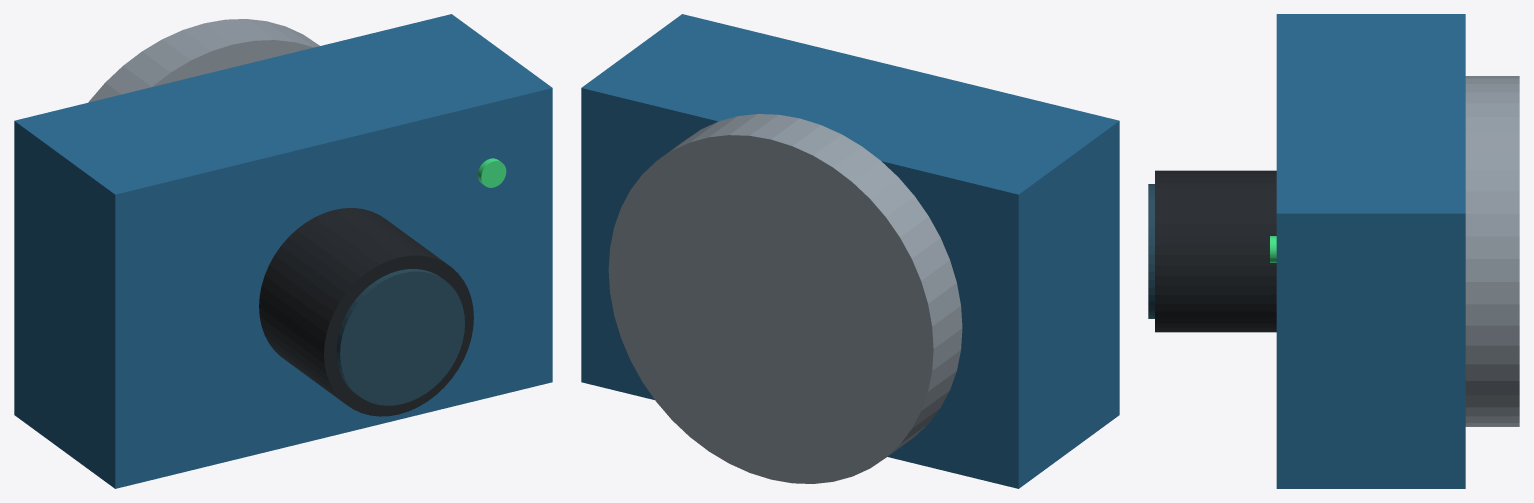
File: left_flange_camera.glb
The picture shows the model from 3 angles, left to right: view 1: azimuth 30°, elevation 25°; view 2: azimuth 150°, elevation 25°; view 3: azimuth 270°, elevation 25°; orthographic projection. The views are drawn at different scales.
Visible parts, largest first — view 1: left_camera_housing, left_camera_lens_barrel, left_camera_front_glass, left_camera_mount_plate, left_camera_status_led; view 2: left_camera_housing, left_camera_mount_plate; view 3: left_camera_housing, left_camera_lens_barrel, left_camera_mount_plate, left_camera_front_glass.
Part boxes in pixels (box(x1,y1,x2,y2)): left_camera_housing: box(14, 14, 552, 488); left_camera_lens_barrel: box(259, 208, 473, 416); left_camera_front_glass: box(336, 269, 464, 405); left_camera_mount_plate: box(88, 19, 319, 102); left_camera_status_led: box(477, 158, 506, 187); left_camera_housing: box(581, 14, 1119, 488); left_camera_mount_plate: box(608, 114, 962, 483); left_camera_housing: box(1276, 14, 1465, 488); left_camera_lens_barrel: box(1155, 170, 1276, 332); left_camera_mount_plate: box(1465, 76, 1519, 426); left_camera_front_glass: box(1148, 184, 1154, 318).
Bounding box in the file's own units: 0.07 × 0.052 × 0.055.
